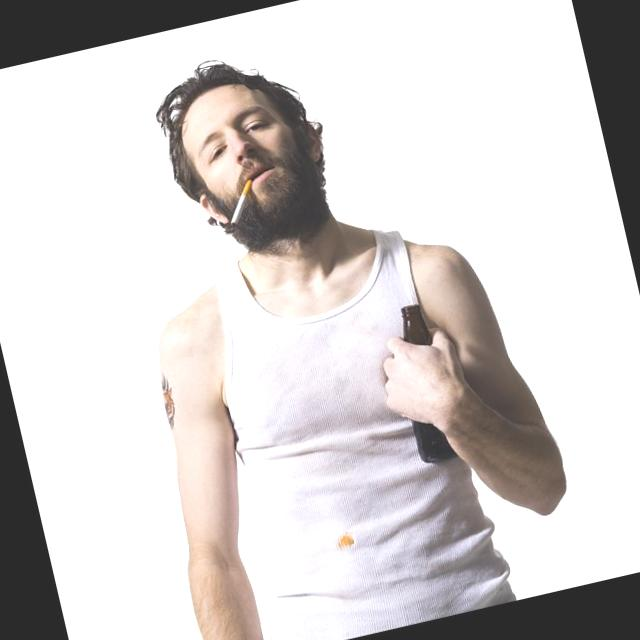cigarette: (220, 178, 261, 228)
